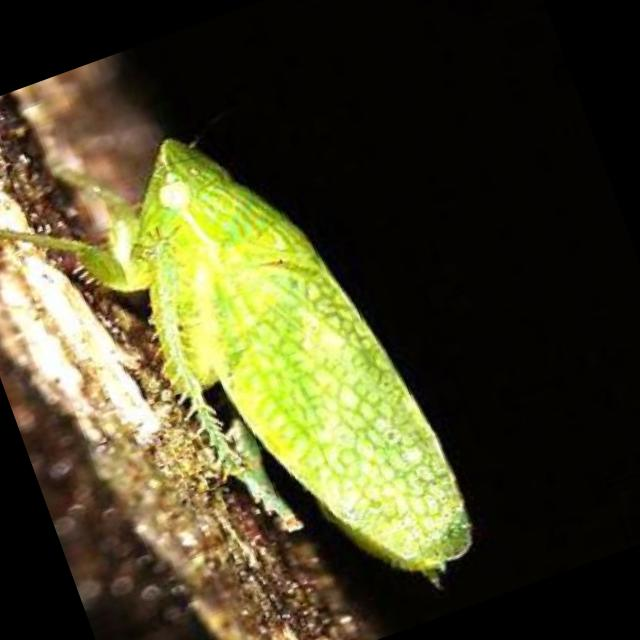green-leafhopper: (11, 83, 490, 640)
